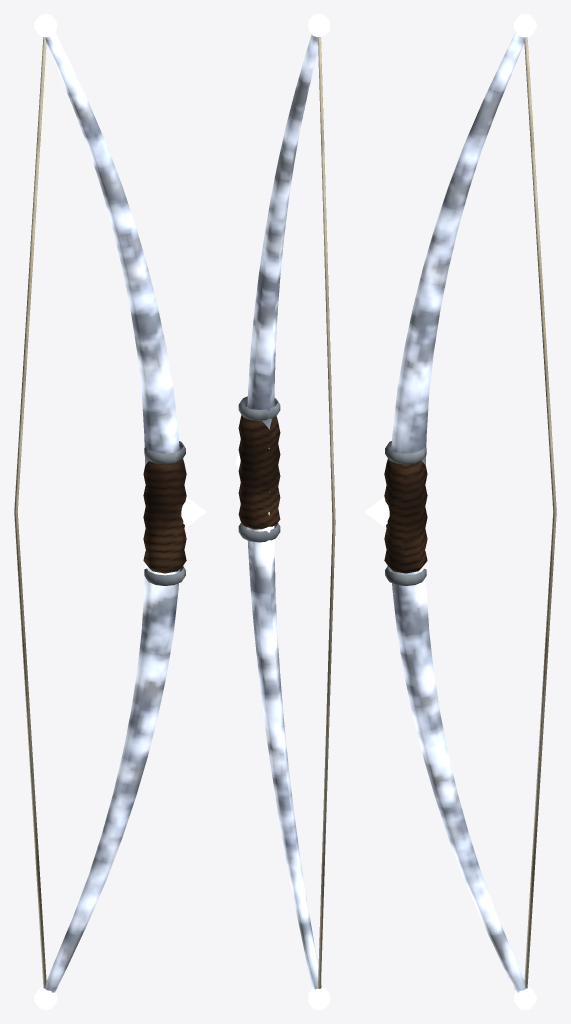
The model's file is CrescentLongbow.fbx.
The picture shows the model from 3 angles, left to right: view 1: azimuth 90°, elevation 25°; view 2: azimuth 210°, elevation 25°; view 3: azimuth 270°, elevation 25°; orthographic projection.
Parts seen in each view (by area): view 1: CrescentLongbow; view 2: CrescentLongbow; view 3: CrescentLongbow.
Part boxes in pixels (box(x1,y1,x2,y2)): CrescentLongbow: box(14, 14, 206, 1009); CrescentLongbow: box(235, 14, 335, 1009); CrescentLongbow: box(364, 14, 556, 1009).
Size of the model in its own units: 0.058 by 1.47 by 0.2584.
